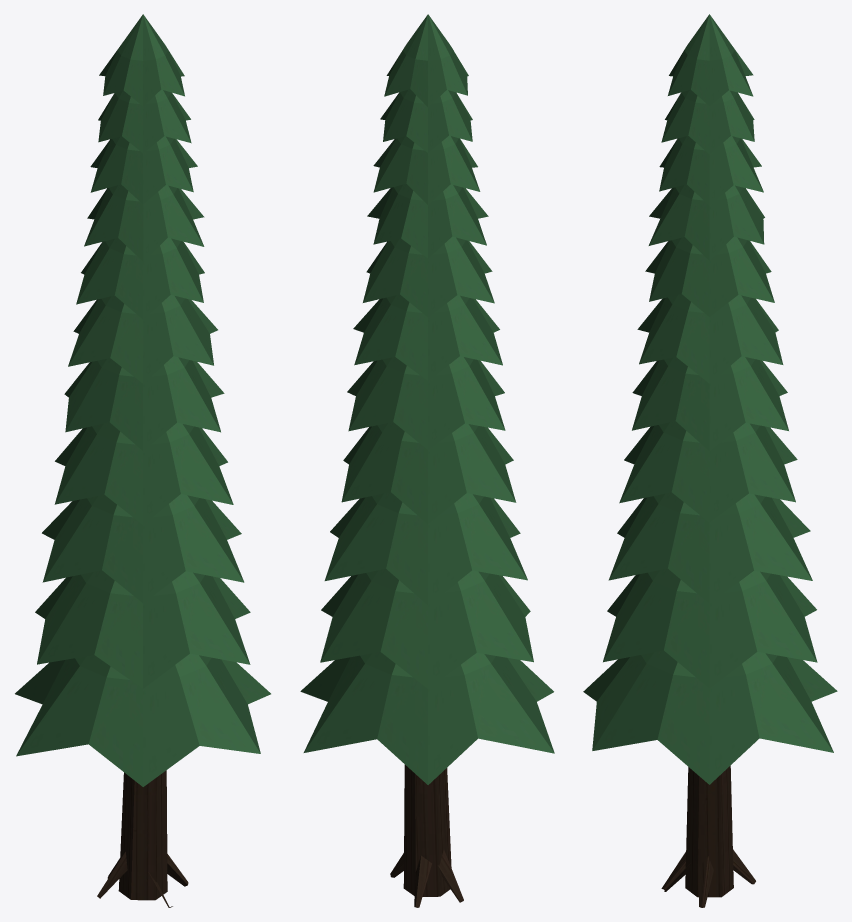
File: tree_pine_02.glb
The picture shows the model from 3 angles, left to right: view 1: azimuth 30°, elevation 25°; view 2: azimuth 150°, elevation 25°; view 3: azimuth 270°, elevation 25°; orthographic projection.
Visible parts, largest first — view 1: tree_pine_02; view 2: tree_pine_02; view 3: tree_pine_02.
Part boxes in pixels (bbox=[...]): tree_pine_02: bbox=[15, 14, 270, 907]; tree_pine_02: bbox=[300, 14, 554, 907]; tree_pine_02: bbox=[583, 14, 837, 907].
Bounding box in the file's own units: 2.42 × 7.94 × 2.09.
3 materials, 3 textured.
